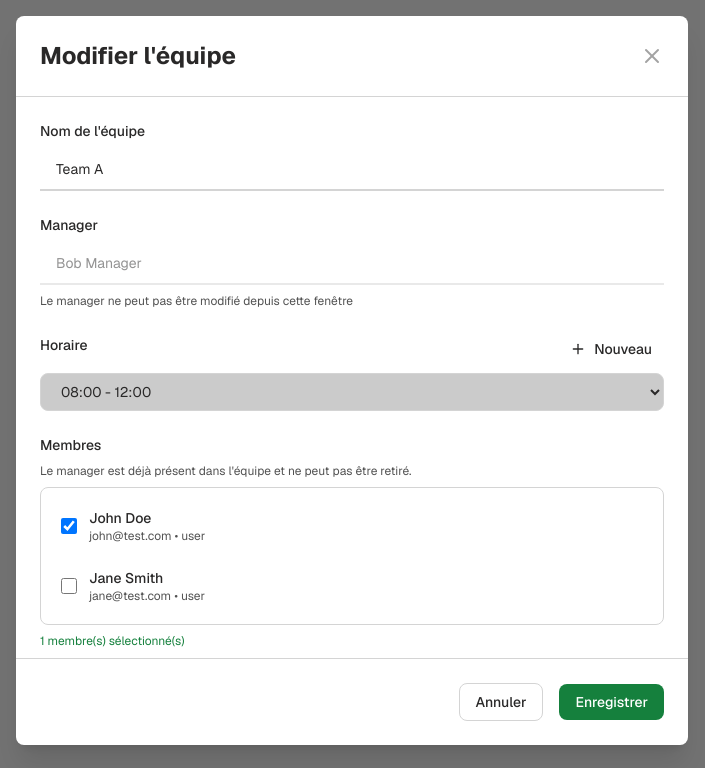
Test: EditTeamModal › should display error message on submission failure
Click the button "Enregistrer" at (612, 702), box top-left (560, 684), bottom-right (664, 720)
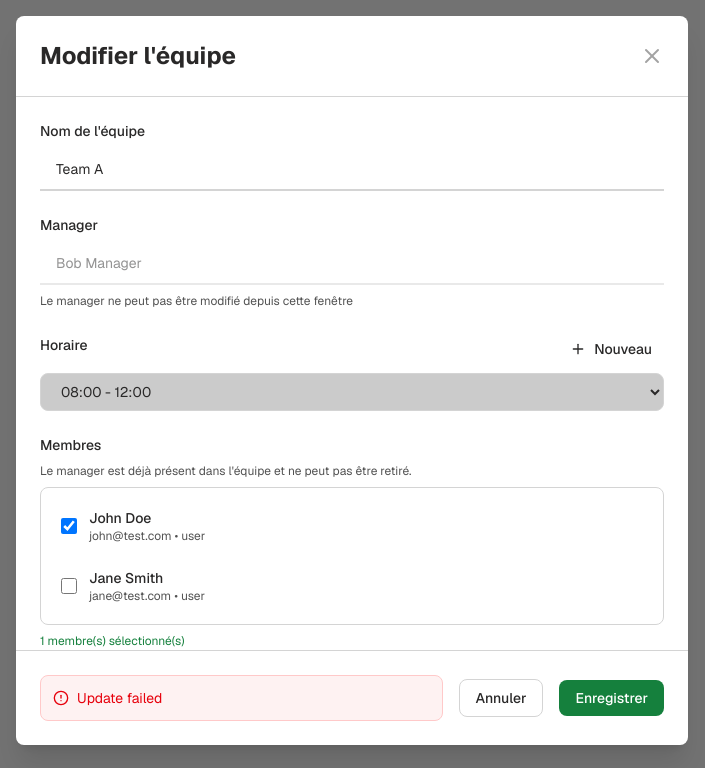
Now the text "Update failed" is shown, box top-left (77, 688), bottom-right (162, 706)
